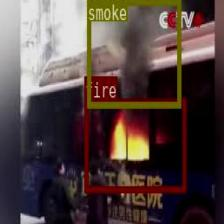fire: (84, 98, 186, 191)
smoke: (86, 0, 179, 107)
